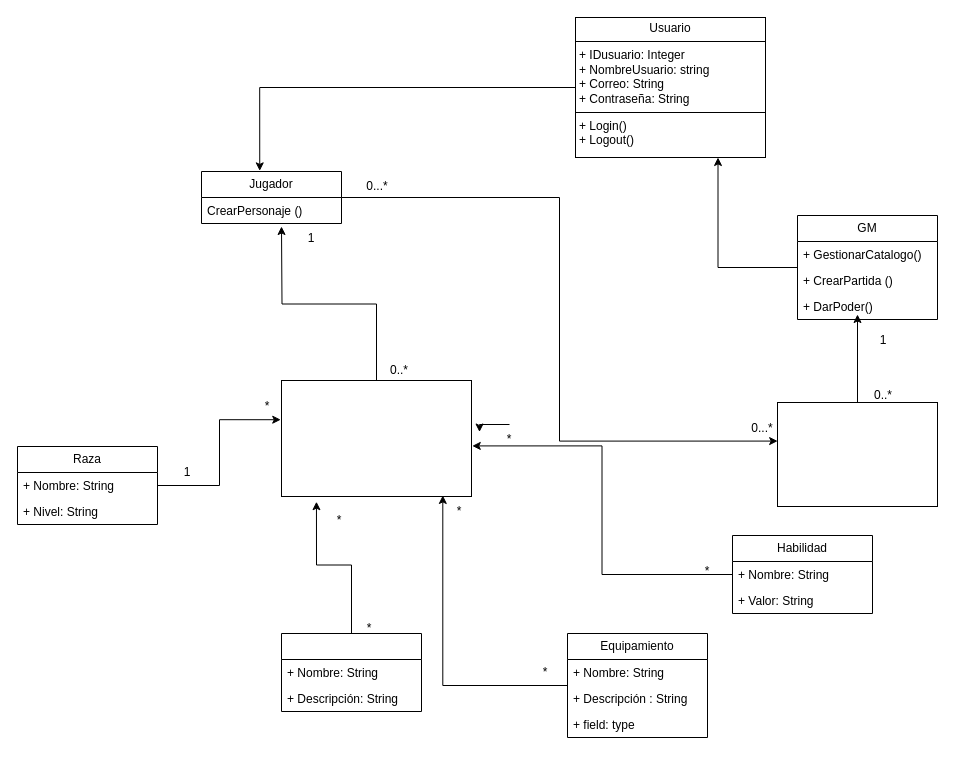
This 955x758 diagram has some shape labels left out. The shapes that lost their labels are listed below. From the top down, each one's box as (x1, y1, x2, y2) in pixels, then its label:
(280, 380, 472, 496): Personaje + Nombre: String + Nivel: Integer + Estado: String + EditarPersonaje()
(776, 402, 938, 506): Partida + Nombre: String + Estado: String + AgregarJugador (Jugador)
(280, 632, 422, 712): Poder
